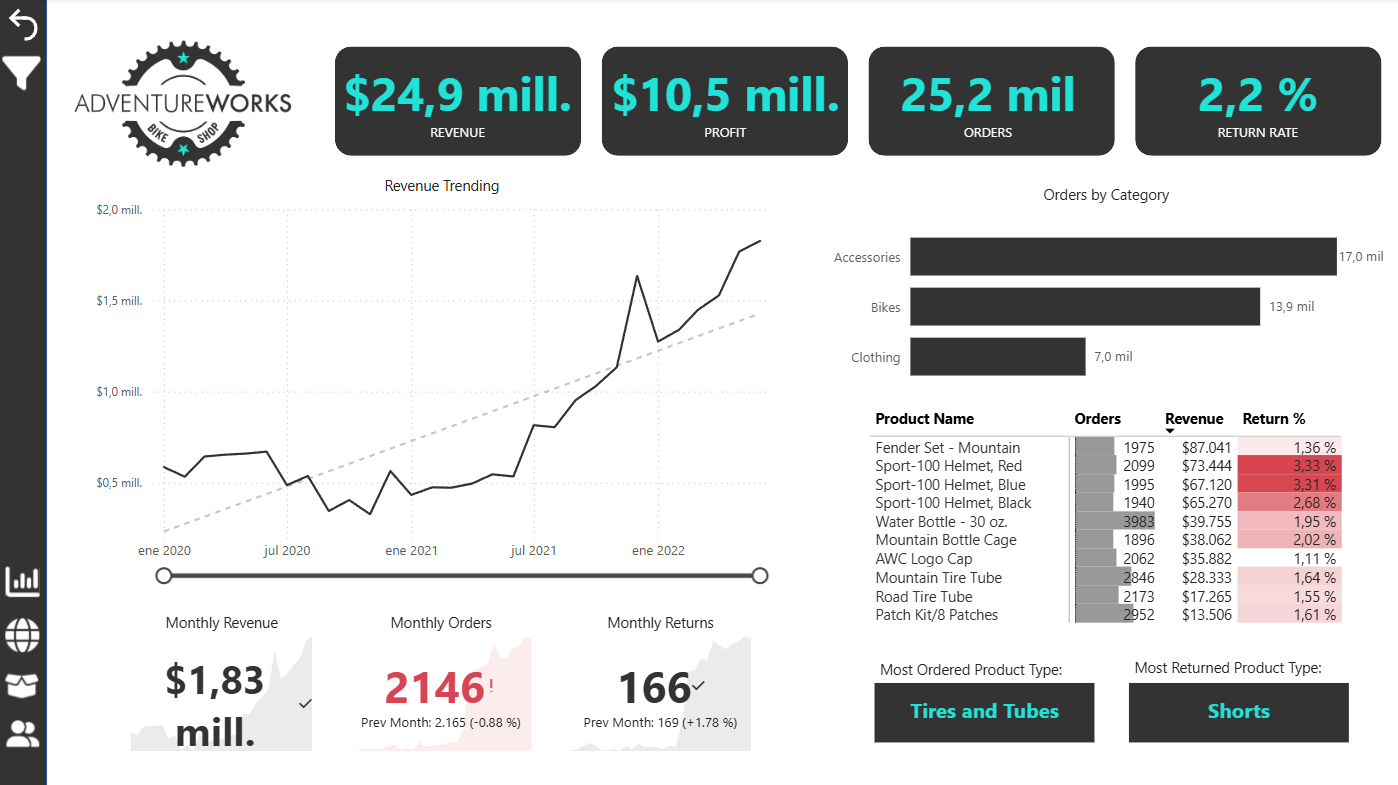

This screenshot's page, from the dashboard's own definition file:
{"tool":"powerbi","page":{"name":"Exec Dashboard","canvas":[1280,720],"ordinal":0},"visuals":[{"type":"image","title":"AW Logo","box":[43.2,1.4,252.7,190.5],"z":0},{"type":"card","fields":{"Values":["Measure Table.Total Revenue"]},"box":[301.6,39.6,238,108.9],"z":0,"group":"g2"},{"type":"shape","box":[308.1,43.9,225.3,100],"z":0,"group":"g1"},{"type":"actionButton","box":[2.5,513.6,45.7,39.5],"z":0,"group":"g3"},{"type":"shape","title":"Left Nav Background","box":[0,0,45,720.3],"z":1000},{"type":"card","fields":{"Values":["Measure Table.Return Rate"]},"box":[1033.2,39.6,238,108.9],"z":1000,"group":"g2"},{"type":"shape","box":[552,43.9,225.3,100],"z":1000,"group":"g1"},{"type":"actionButton","box":[2.5,562.6,45.5,39.4],"z":1000,"group":"g3"},{"type":"card","fields":{"Values":["Measure Table.Total Revenue"]},"box":[301.5,39.5,238,108.9],"z":2000},{"type":"card","fields":{"Values":["Measure Table.Total Orders"]},"box":[786.4,39.6,238,108.9],"z":2000,"group":"g2"},{"type":"shape","box":[795.9,43.9,225.3,100],"z":2000,"group":"g1"},{"type":"actionButton","box":[2.8,610,45.1,38],"z":2000,"group":"g3"},{"type":"card","fields":{"Values":["Measure Table.Total Profit"]},"box":[545.9,39.6,238,108.9],"z":3000,"group":"g2"},{"type":"group","id":"g1","title":"KPI Background","box":[308.1,43.9,957,100],"z":3000},{"type":"shape","box":[1039.7,43.9,225.3,100],"z":3000,"group":"g1"},{"type":"actionButton","box":[3.7,653.1,45.7,38.3],"z":3000,"group":"g3"},{"type":"group","id":"g2","title":"KPI Values","box":[301.6,39.6,969.6,108.9],"z":4000},{"type":"lineChart","title":"Revenue Trending","fields":{"Y":["Measure Table.Total Revenue"],"Category":["Calendar Lookup.Year","Calendar Lookup.Start of Quarter","Calendar Lookup.Start of Month"]},"box":[85.1,162.2,641.9,377],"z":5000},{"type":"kpi","title":"Monthly Orders","fields":{"TrendLine":["Calendar Lookup.Start of Month"],"Indicator":["Measure Table.Total Orders"],"Goal":["Measure Table.Previous Month Orders"]},"box":[317.2,560.7,175.5,132.5],"z":6000},{"type":"kpi","title":"Monthly Returns","fields":{"TrendLine":["Calendar Lookup.Start of Month"],"Indicator":["Measure Table.Total Returns"],"Goal":["Measure Table.Previous Month Returns"]},"box":[517.8,560.7,175.5,132.5],"z":7000},{"type":"kpi","title":"Monthly Revenue","fields":{"Indicator":["Measure Table.Total Revenue"],"TrendLine":["Calendar Lookup.Start of Month"],"Goal":["Calendar Lookup.Previous Month Revenue"]},"box":[116.6,560.7,175.5,132.5],"z":8000},{"type":"clusteredBarChart","title":"Orders by Category","fields":{"Category":["Product Categories Lookup.CategoryName"],"Y":["Measure Table.Total Orders"]},"box":[754.1,170.3,517.6,200],"z":9000},{"type":"pivotTable","fields":{"Rows":["Product Lookup.ProductName"],"Values":["Measure Table.Total Orders","Measure Table.Total Revenue","Measure Table.Return Rate"]},"box":[791.9,370.3,455.4,228.4],"z":10000},{"type":"card","fields":{"Values":["Min(Product Subcategories Lookup.SubcategoryName)"]},"box":[801.4,625.7,201.4,54.1],"z":11000},{"type":"textbox","box":[800.7,599.5,200.5,28.9],"z":12000},{"type":"card","fields":{"Values":["Min(Product Subcategories Lookup.SubcategoryName)"]},"box":[1033.8,625.7,201.4,54.1],"z":13000},{"type":"textbox","box":[1033,598.1,200.5,28.9],"z":14000},{"type":"actionButton","box":[3.7,4.9,45.4,39.3],"z":15000},{"type":"group","id":"g3","title":"Navegation Buttons","box":[2.5,513.6,46.9,177.8],"z":16000},{"type":"actionButton","box":[0,44.4,43.2,49.4],"z":17000}]}

Visuals, with their boxes on the page's 1280x720 design canvas (x1, y1, x2, y2). These are canvas units, not pixel positions in the 1398x785 screenshot, which may show the page scaled, cropped or inside an application window:
"AW Logo" image: detection(43, 1, 296, 192)
card - Measure Table.Total Revenue: detection(302, 40, 540, 148)
shape: detection(308, 44, 533, 144)
actionButton: detection(2, 514, 48, 553)
"Left Nav Background" shape: detection(0, 0, 45, 720)
card - Measure Table.Return Rate: detection(1033, 40, 1271, 148)
shape: detection(552, 44, 777, 144)
actionButton: detection(2, 563, 48, 602)
card - Measure Table.Total Revenue: detection(302, 40, 540, 148)
card - Measure Table.Total Orders: detection(786, 40, 1024, 148)
shape: detection(796, 44, 1021, 144)
actionButton: detection(3, 610, 48, 648)
card - Measure Table.Total Profit: detection(546, 40, 784, 148)
"KPI Background" group: detection(308, 44, 1265, 144)
shape: detection(1040, 44, 1265, 144)
actionButton: detection(4, 653, 49, 691)
"KPI Values" group: detection(302, 40, 1271, 148)
"Revenue Trending" lineChart: detection(85, 162, 727, 539)
"Monthly Orders" kpi: detection(317, 561, 493, 693)
"Monthly Returns" kpi: detection(518, 561, 693, 693)
"Monthly Revenue" kpi: detection(117, 561, 292, 693)
"Orders by Category" clusteredBarChart: detection(754, 170, 1272, 370)
pivotTable - Product Lookup.ProductName x Measure Table.Total Orders: detection(792, 370, 1247, 599)
card - Min(Product Subcategories Lookup.SubcategoryName): detection(801, 626, 1003, 680)
textbox: detection(801, 600, 1001, 628)
card - Min(Product Subcategories Lookup.SubcategoryName): detection(1034, 626, 1235, 680)
textbox: detection(1033, 598, 1234, 627)
actionButton: detection(4, 5, 49, 44)
"Navegation Buttons" group: detection(2, 514, 49, 691)
actionButton: detection(0, 44, 43, 94)
